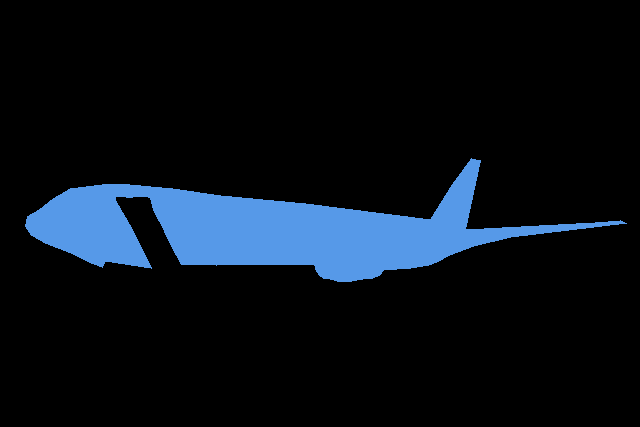Airplane: (25, 158, 627, 282)
